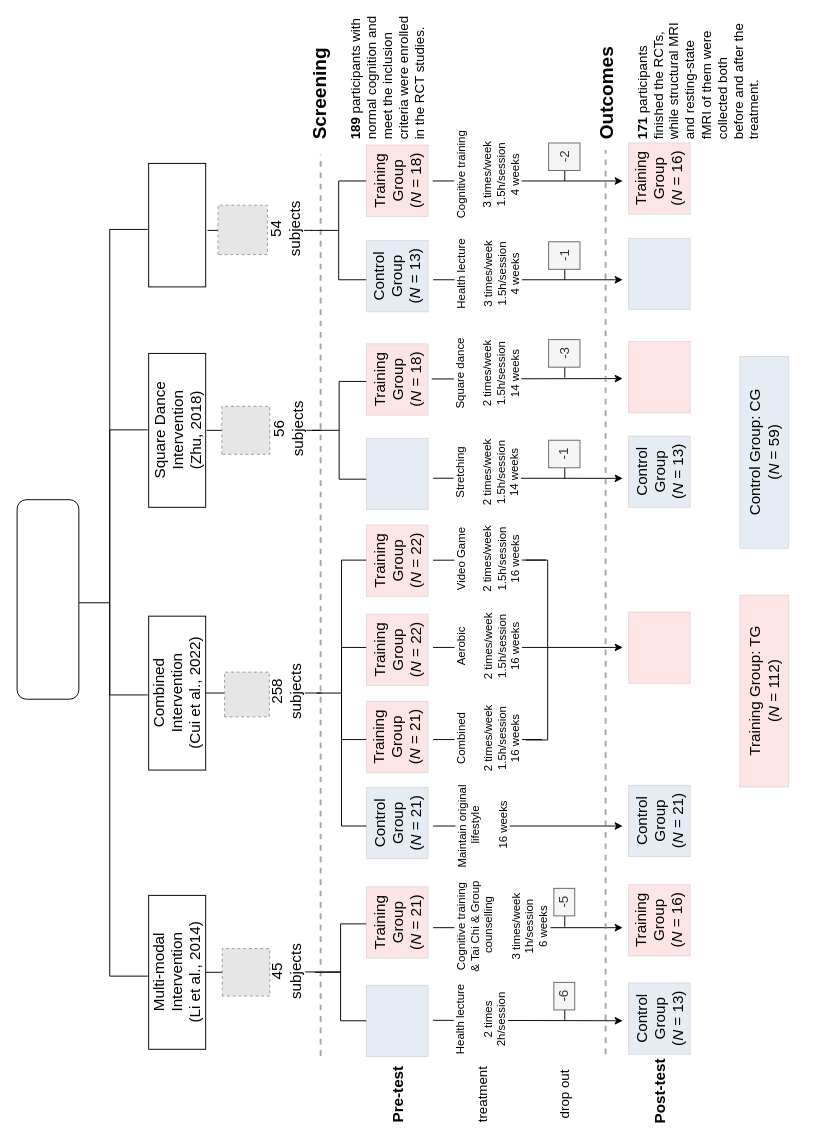
Image size: 814x1143. Some labels were removed from this diagram. Grey dashed boxes stand in for pictures. Each missing label, with the centre of its shape:
Cognitive Intervention (Yin et al., 2022): pixel 177 224
Control Group ( N = 12): pixel 659 273
Control Group ( N = 14): pixel 397 473
Control Group ( N = 19): pixel 397 1020
Four previous studies on Non-pharmacological intervention: pixel 47 599
Training Group ( N = 15): pixel 659 377
Training Group ( N = 65): pixel 659 647
